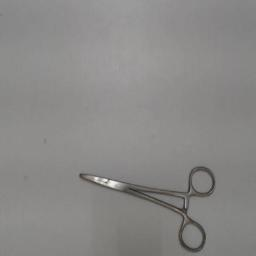Mayo Needle Holder: (74, 161, 218, 255)
